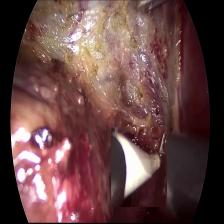Hook: (112, 128, 167, 207)
